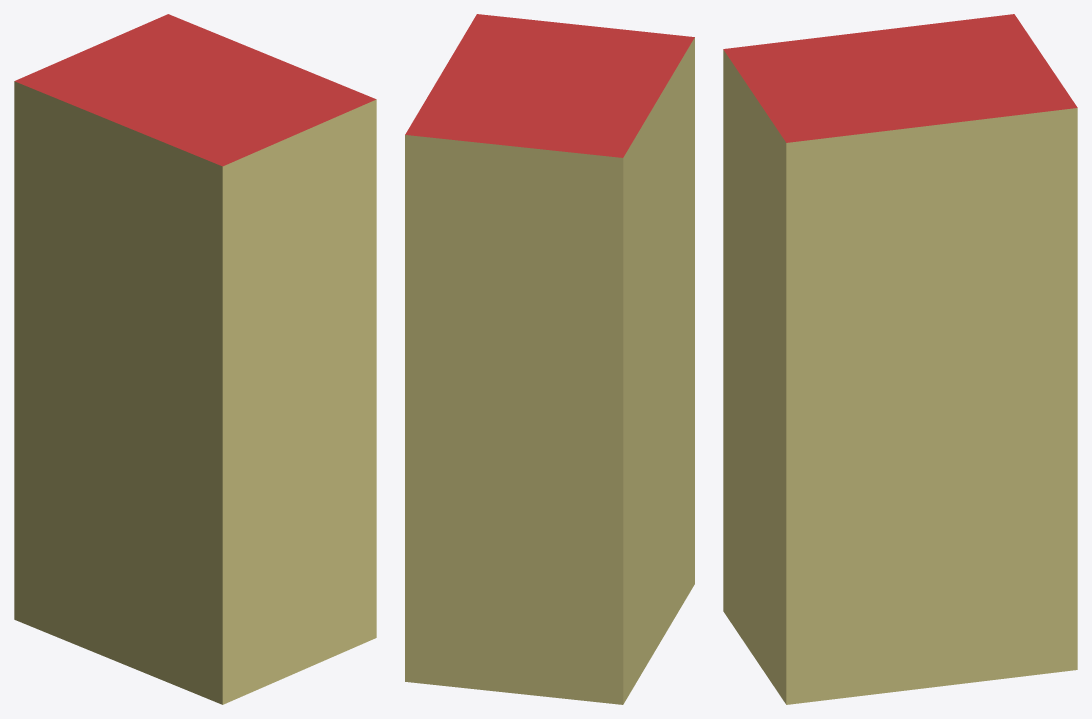
The picture shows the model from 3 angles, left to right: view 1: azimuth 30°, elevation 25°; view 2: azimuth 150°, elevation 25°; view 3: azimuth 270°, elevation 25°; orthographic projection. The views are drawn at different scales.
Size of the model in its own units: 2.71 by 3.15 by 5.5.
